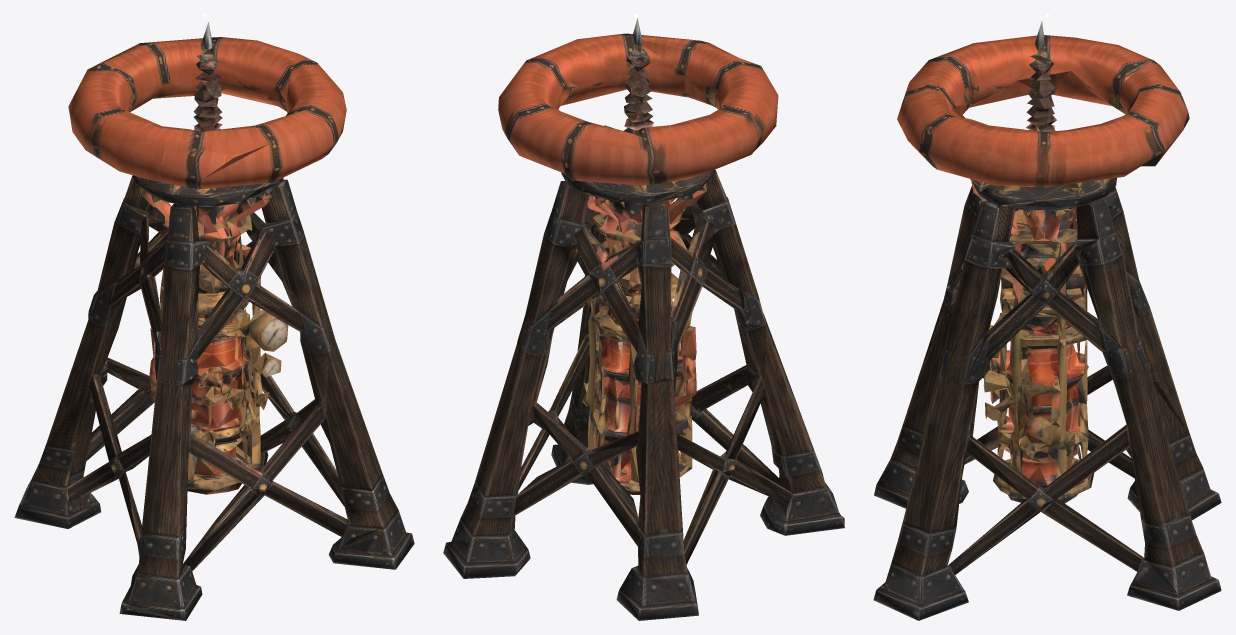
File: shock-1.glb
3 renders of one model, left to right at view 1: azimuth 30°, elevation 25°; view 2: azimuth 150°, elevation 25°; view 3: azimuth 270°, elevation 25°, orthographic. The views are drawn at different scales.
Parts seen in each view (by area): view 1: Mesh_0; view 2: Mesh_0; view 3: Mesh_0.
Part boxes in pixels (x1=…): Mesh_0: x1=14, y1=22, x2=414, y2=620; Mesh_0: x1=443, y1=18, x2=844, y2=620; Mesh_0: x1=873, y1=21, x2=1221, y2=620.
Size of what is drawn, in the model's own units: 1.19 by 2.02 by 1.2.
3 materials, 1 textured.
